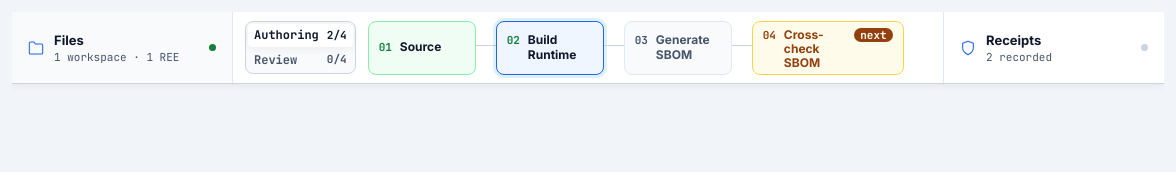
Scenario: WorkspaceStatusBar › keeps authoring navigation and workspace utilities persistently available
Expected: the element named "Workspace status" is shown, [12,12,1164,84]
Expected: the text "1 workspace · 1 REE" is shown, [54,50,199,64]
Step 1. Click the button "Files 1 workspace · 1 REE" → click(122, 48), box [12,12,232,83]
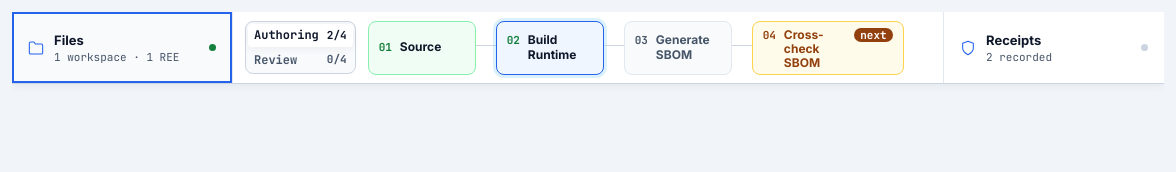
Step 2. Click the button "Receipts 2 recorded" → click(1054, 48), box [944,12,1164,83]
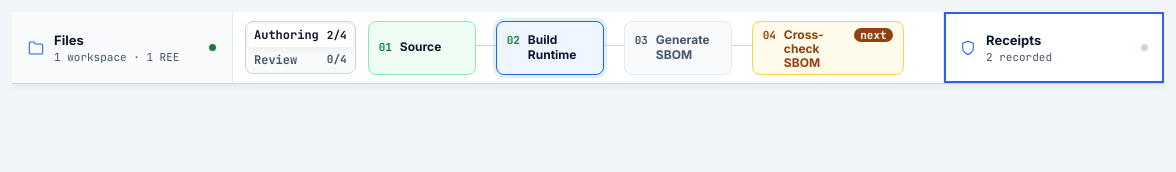
Expected: the text "next" is shown once, [854,28,893,42]
Step 3. Click the button with aria-label "Open Cross-check SBOM authoring step, ready, next up" → click(828, 48), box [752,20,904,74]
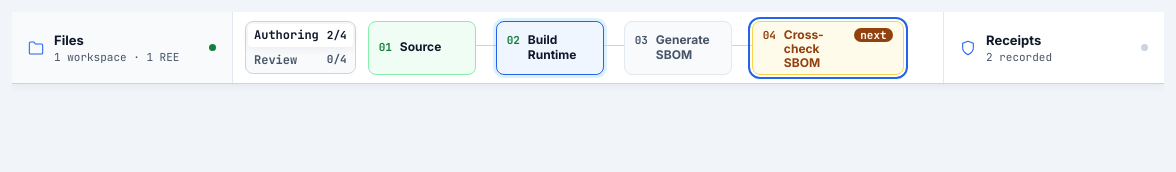
Expected: the text "independent" is not shown
Step 4. Click the button with aria-label "Switch to review workflow" → click(300, 48), box [245,21,356,74]
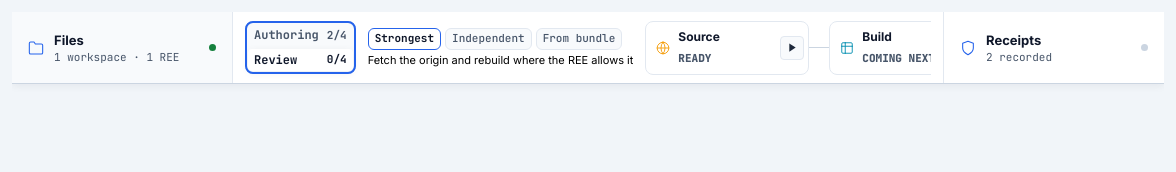
Expected: the radio button labelled "Strongest" is checked, [368,28,441,50]
Expected: the navigation bar named "Review workflow" is shown, [368,16,931,78]
Step 5. Click the button with aria-label "Switch to authoring workflow" → click(300, 48), box [245,21,356,74]
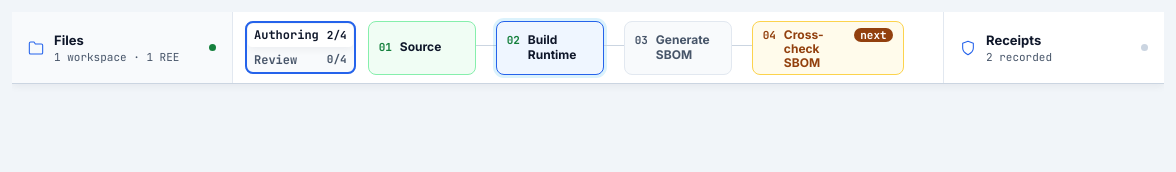
Expected: the navigation bar named "Authoring workflow" is shown, [368,16,931,78]
